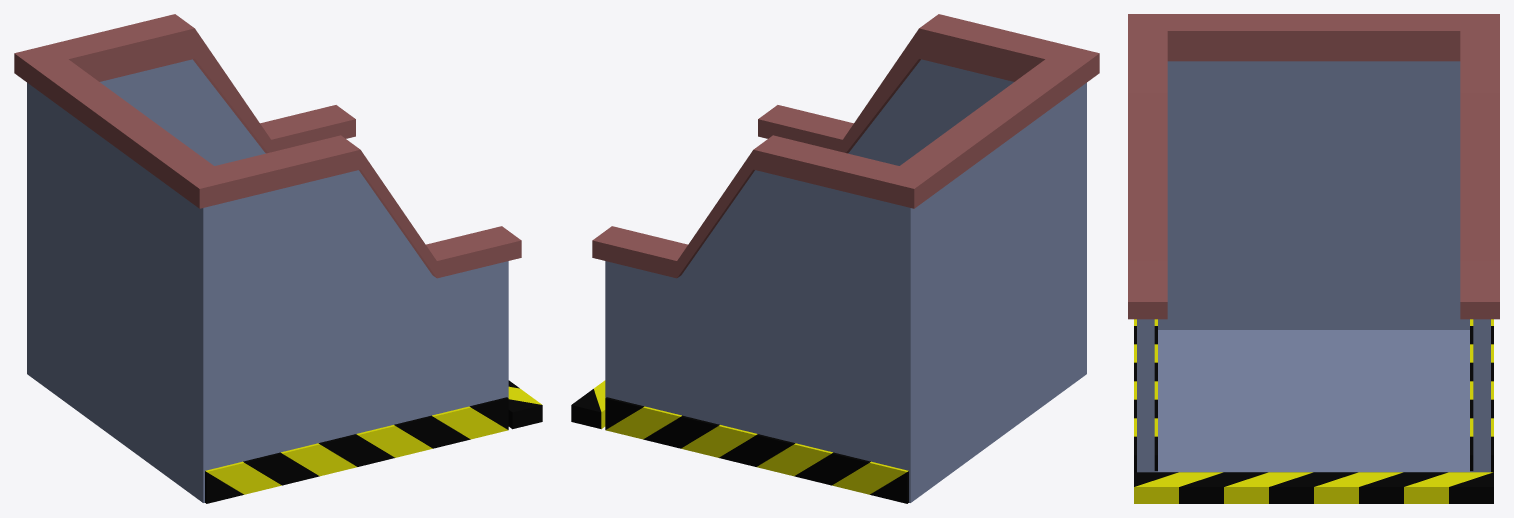
Rendered from SM_TrashBin.fbx.
3 views of the same model, side by side, from view 1: azimuth 30°, elevation 25°; view 2: azimuth 150°, elevation 25°; view 3: azimuth 270°, elevation 25° (orthographic).
Parts seen in each view (by area): view 1: SM_TrashBin; view 2: SM_TrashBin; view 3: SM_TrashBin.
Part boxes in pixels (x1,y1,x2,y2): SM_TrashBin: [14, 14, 542, 503]; SM_TrashBin: [571, 14, 1099, 503]; SM_TrashBin: [1128, 14, 1499, 503].
Size of the model in its own units: 227 by 200 by 210.
